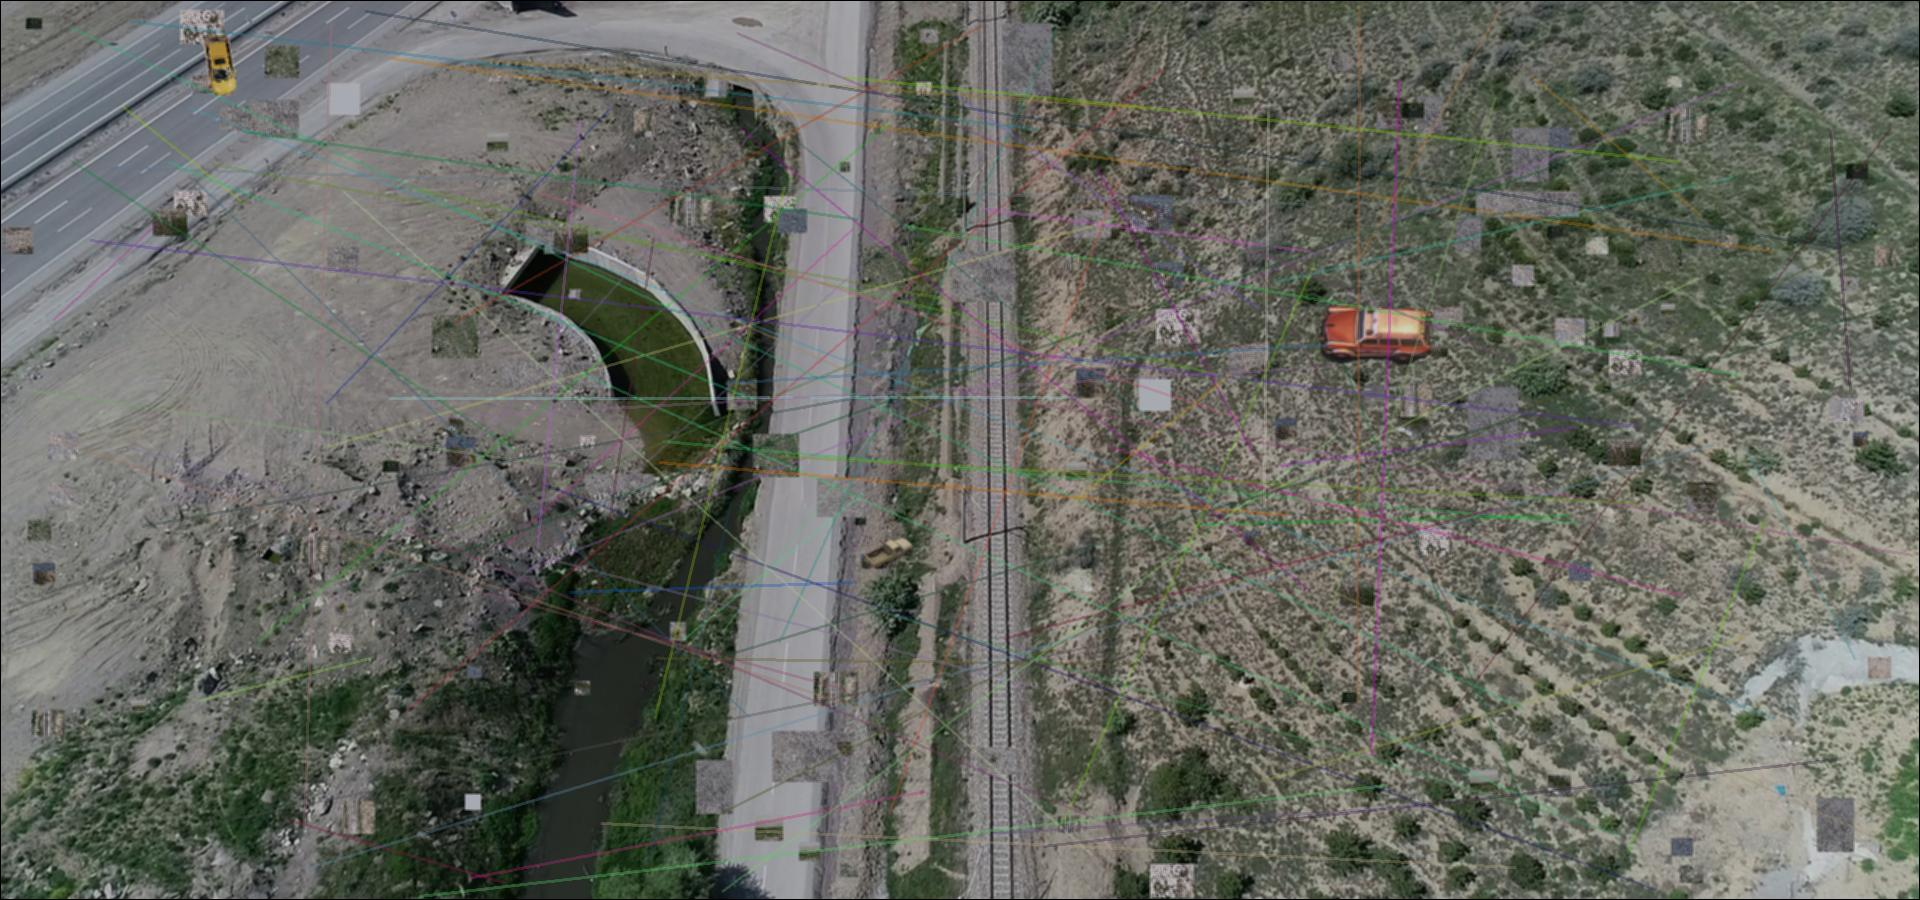arac: (1320, 302, 1433, 365), (200, 36, 239, 98), (864, 535, 913, 569)
